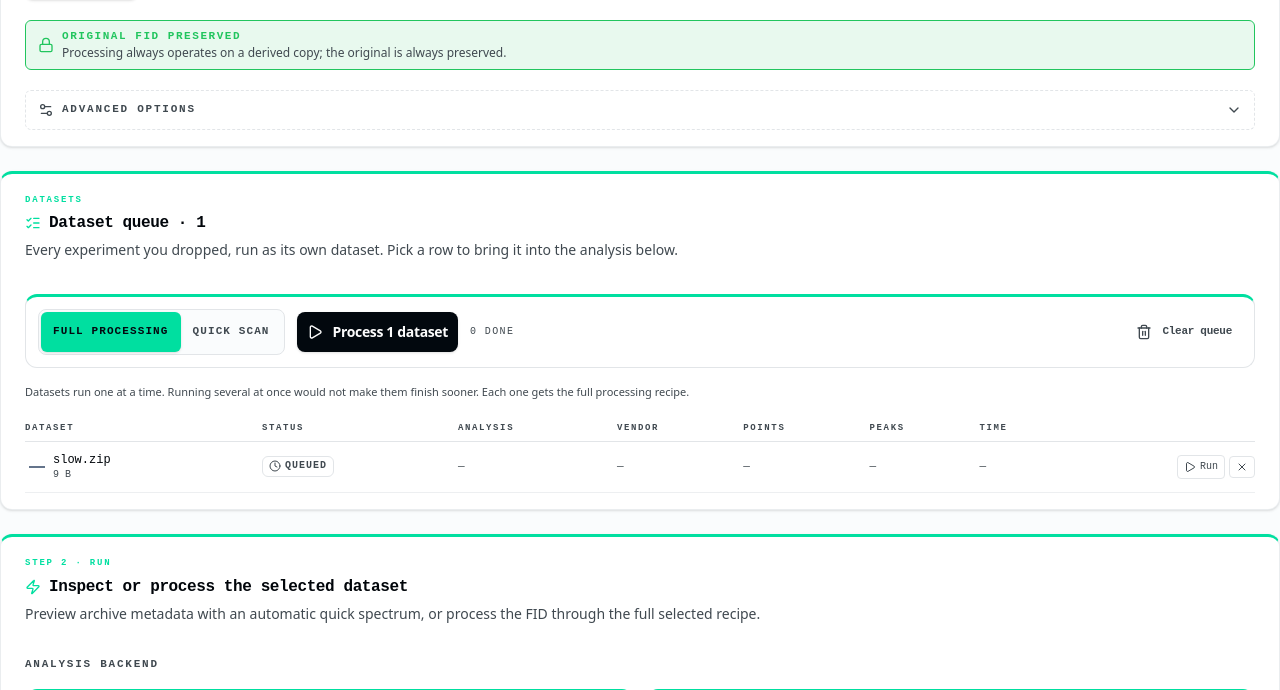
running the queue › does NOT call a timed-out dataset failed, and says its run was kept
Earlier steps of the test are not shown.
(page scrolled)
Click the button with test id "raw-fid-queue-run-all". click: point(377, 332)
box: [296,312,458,352]
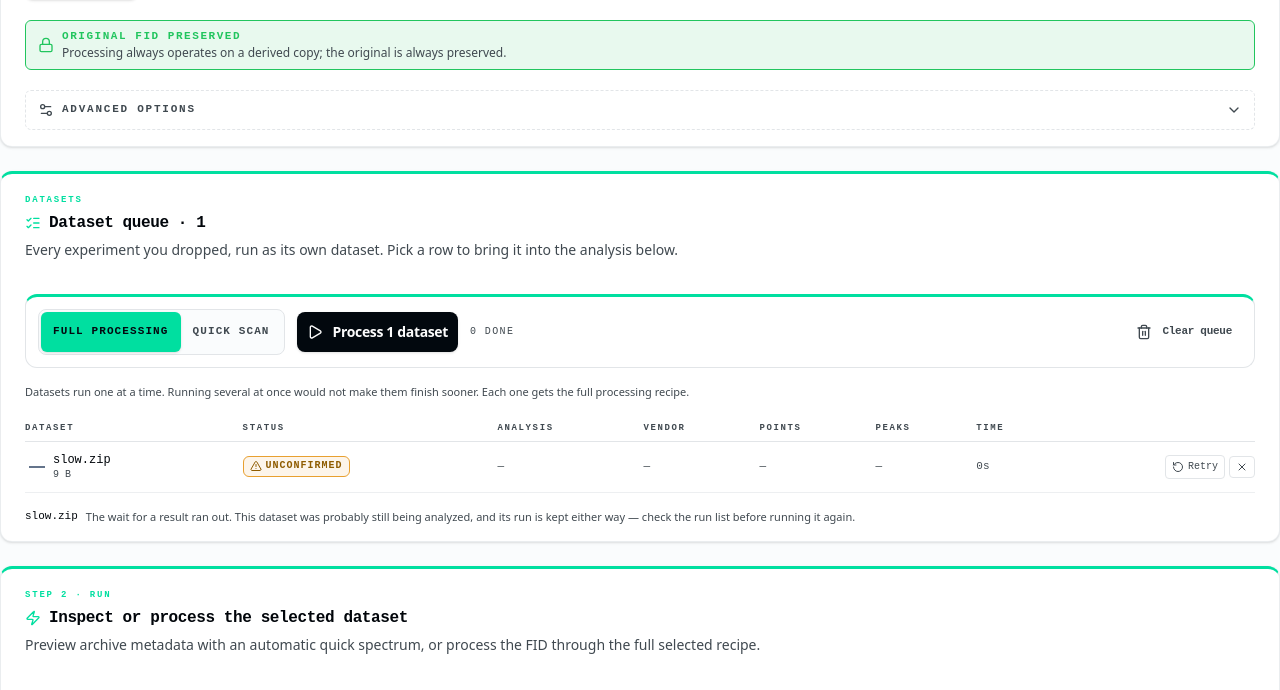
Check: the text "Unconfirmed" is shown, box [243,456,350,477]
Check: the text "still being analyzed" is shown, box [86,509,855,524]
